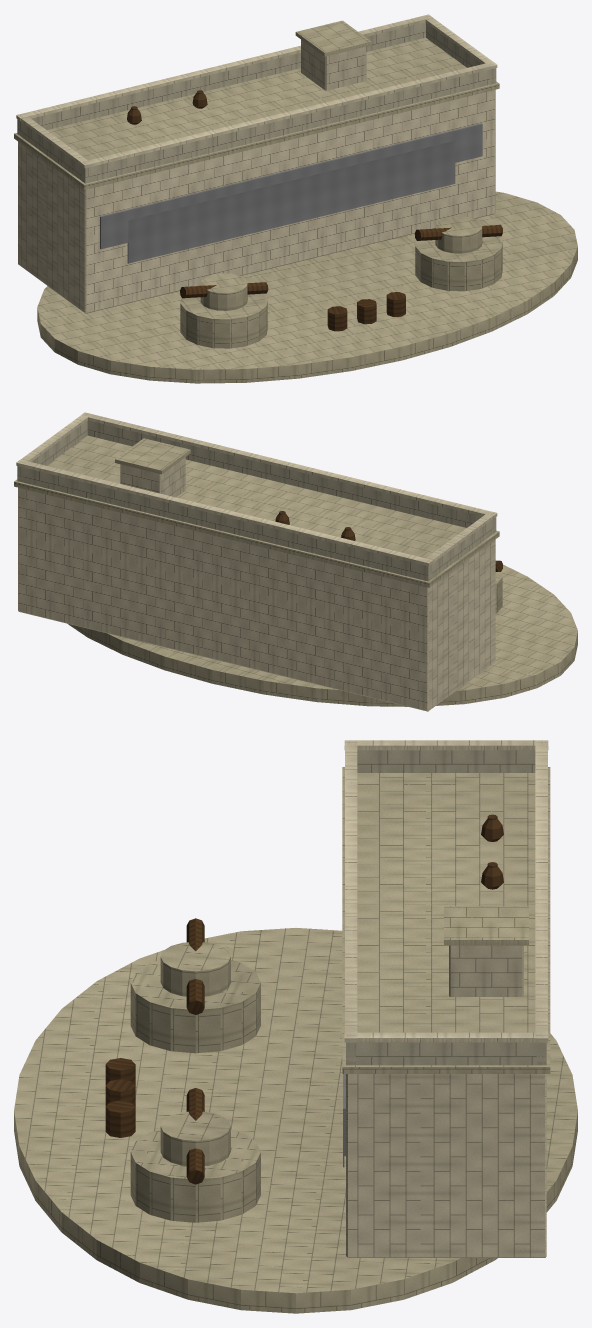
The model's file is workshop-israelite-fefc7c75.glb.
3 views of the same model, one above another, from view 1: azimuth 30°, elevation 25°; view 2: azimuth 150°, elevation 25°; view 3: azimuth 270°, elevation 25° (orthographic). The views are drawn at different scales.
Visible parts, largest first — view 1: LOD0; view 2: LOD0; view 3: LOD0.
Boxes of the visible parts, x1,y1,x2,y2 form: LOD0: (14, 14, 577, 383); LOD0: (14, 412, 577, 711); LOD0: (14, 740, 577, 1313).
Size of what is drawn, in the model's own units: 1.72 by 0.601 by 1.13.
2 materials, 2 textured.
